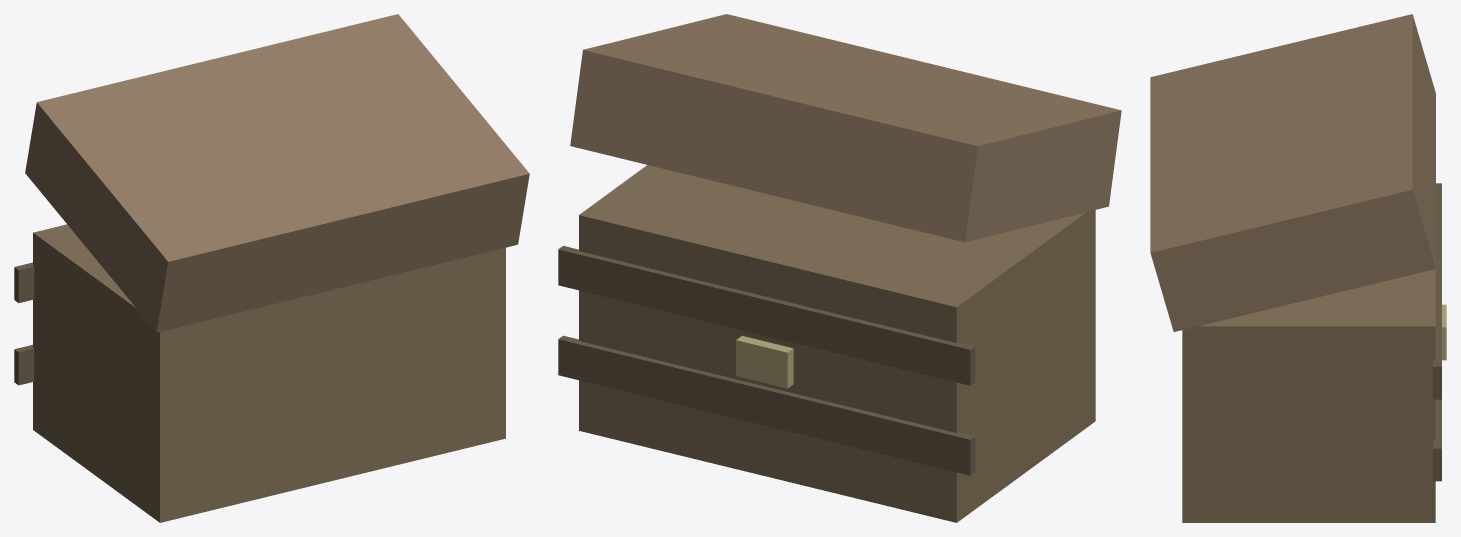
Rendered from treasure_chest_v3.glb.
3 views of the same model, side by side, from view 1: azimuth 30°, elevation 25°; view 2: azimuth 150°, elevation 25°; view 3: azimuth 270°, elevation 25° (orthographic). The views are drawn at different scales.
Parts seen in each view (by area): view 1: world; view 2: world; view 3: world.
Part boxes in pixels (x1,y1,x2,y2): world: (14,14,529,522); world: (558,14,1121,522); world: (1150,14,1446,522).
Size of the model in its own units: 1 by 0.8567 by 0.682.
